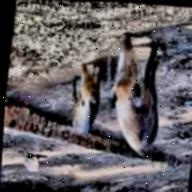boar: (101, 29, 171, 150), (50, 56, 113, 149)
